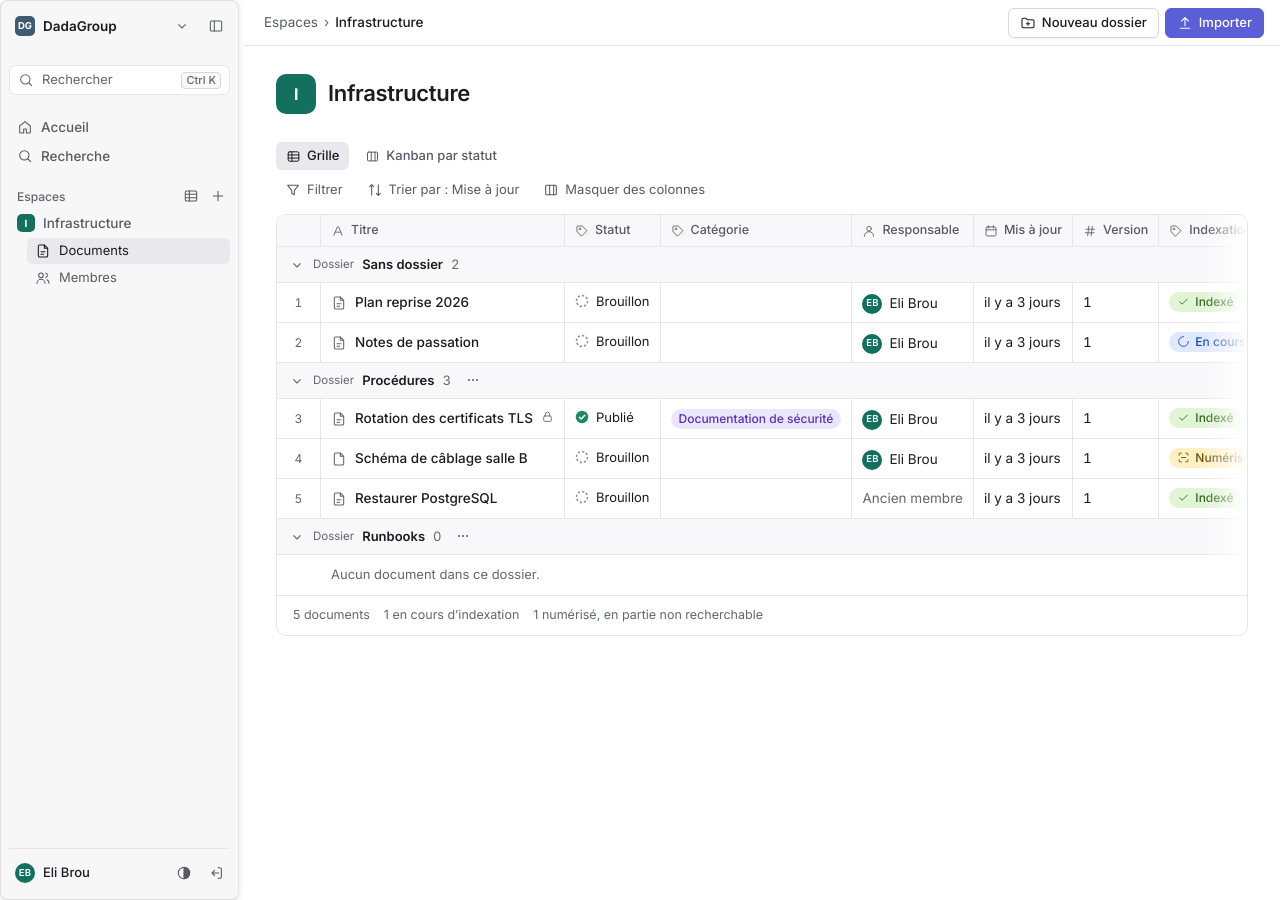
library › explains that a folder holding documents cannot be deleted
Expected: the table is shown, [277,215,1247,595]
Click the button named "Actions sur le dossier Procédures".
click(471, 380)  # box [459,368,483,392]
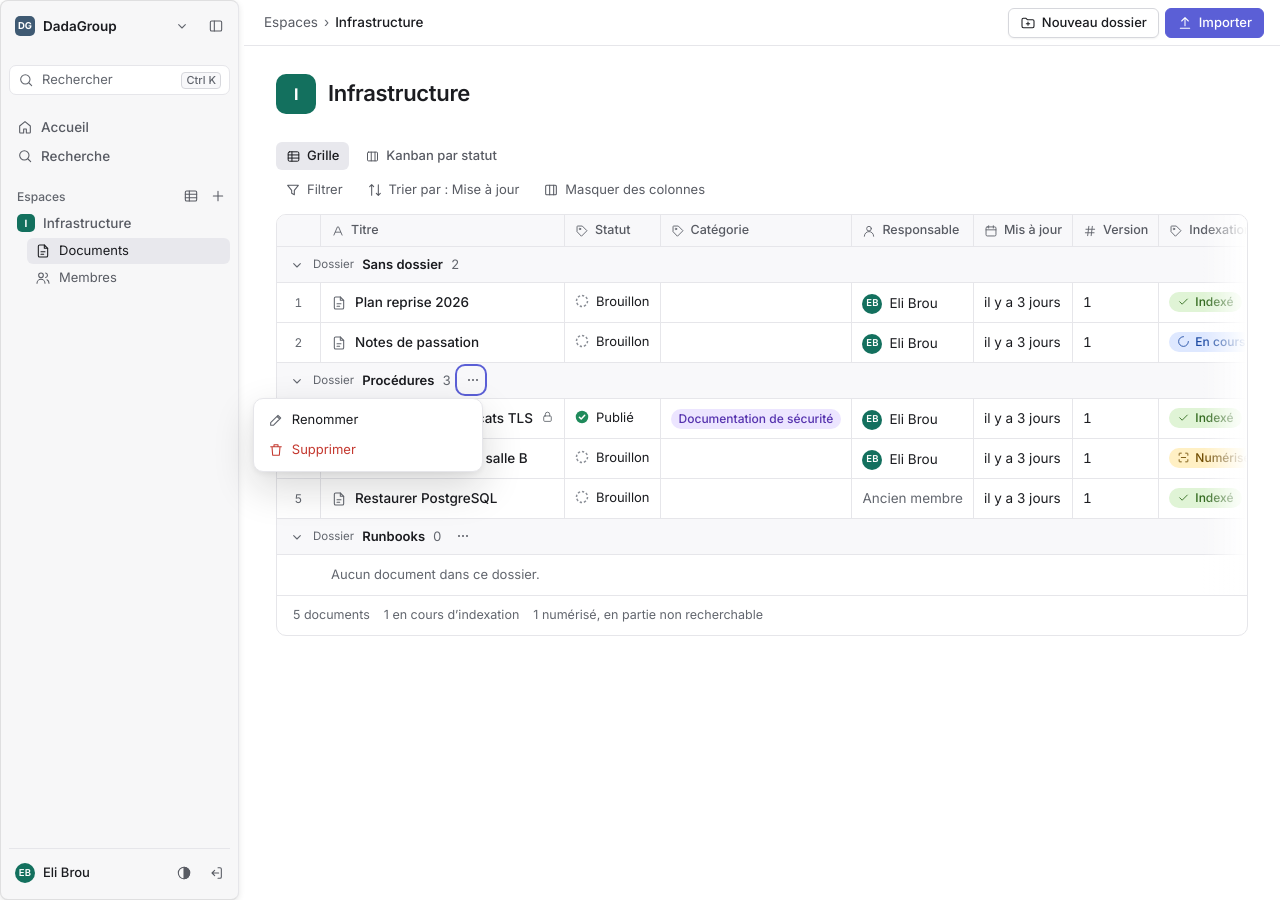
Click the menu item "Supprimer".
click(368, 450)  # box [260,435,476,465]
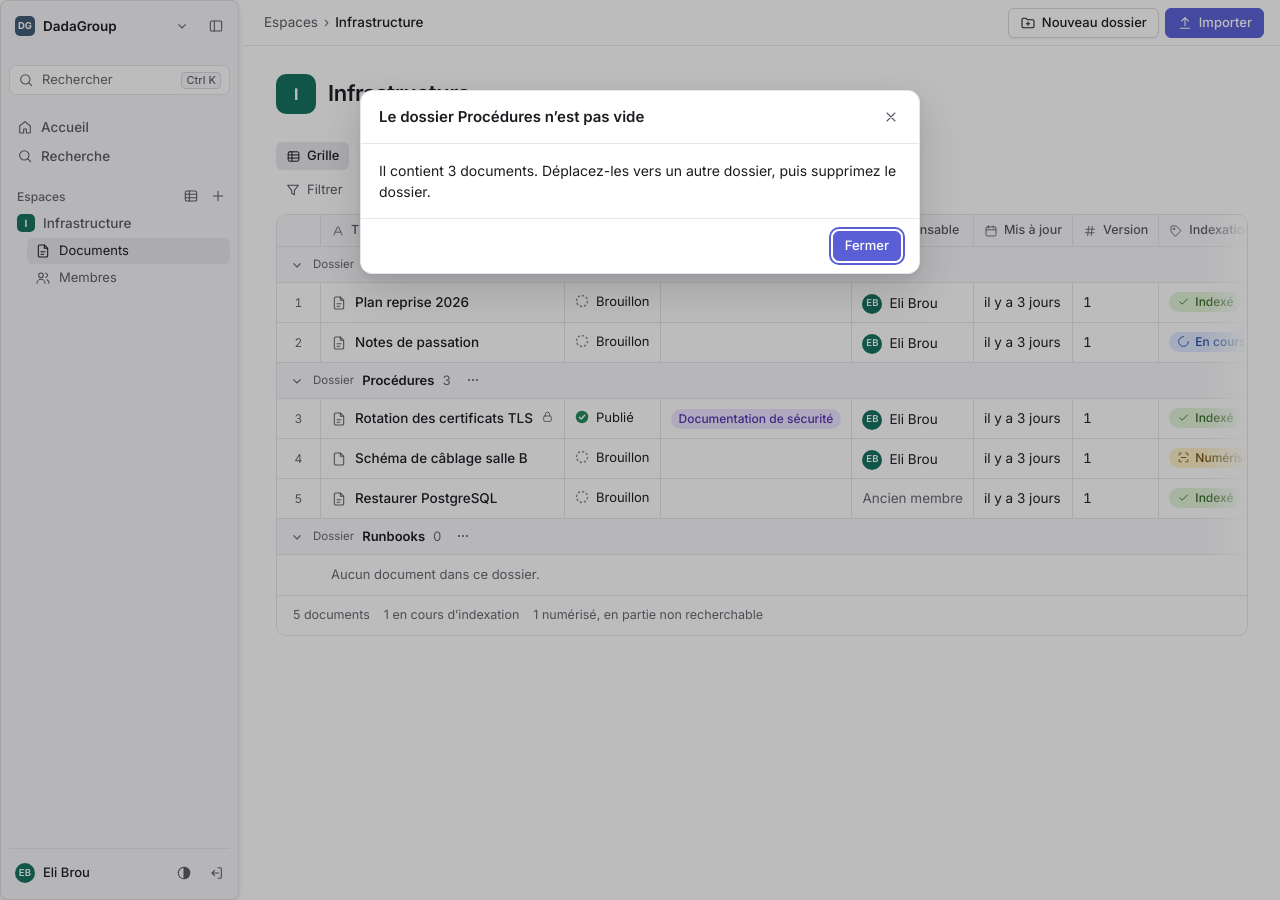
Expected: the dialog "Le dossier Procédures n’est pas vide" shows "Il contient 3 documents. Déplacez-les vers un autre dossier, puis supprimez le dossier.", [379,162,896,200]
Click the button "Fermer".
click(867, 246)  # box [833,231,901,261]
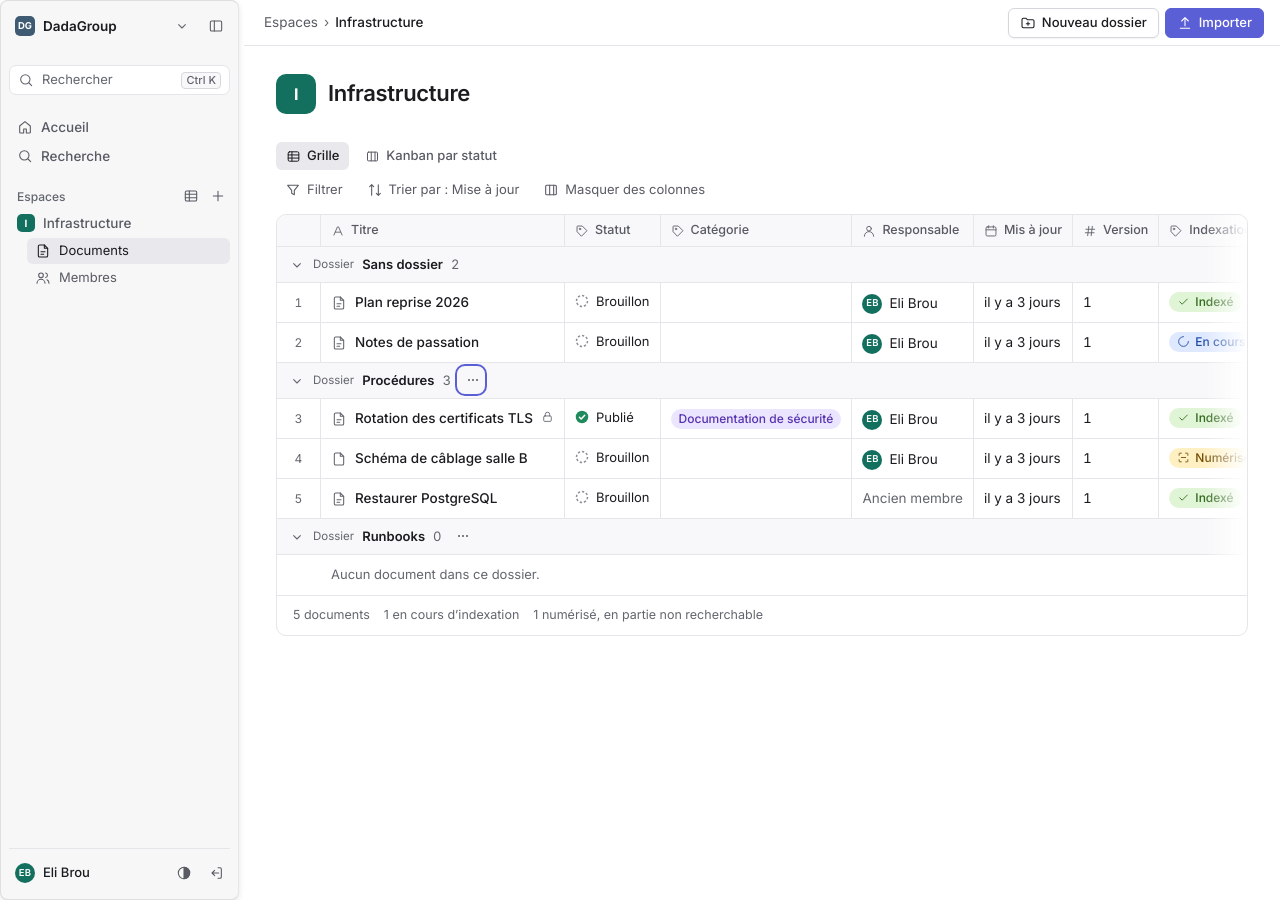
Expected: the dialog is gone
A folder that looks empty may hold documents the person does not see: the server says so.
Click the button named "Actions sur le dossier Runbooks".
click(462, 536)  # box [450,524,474,548]
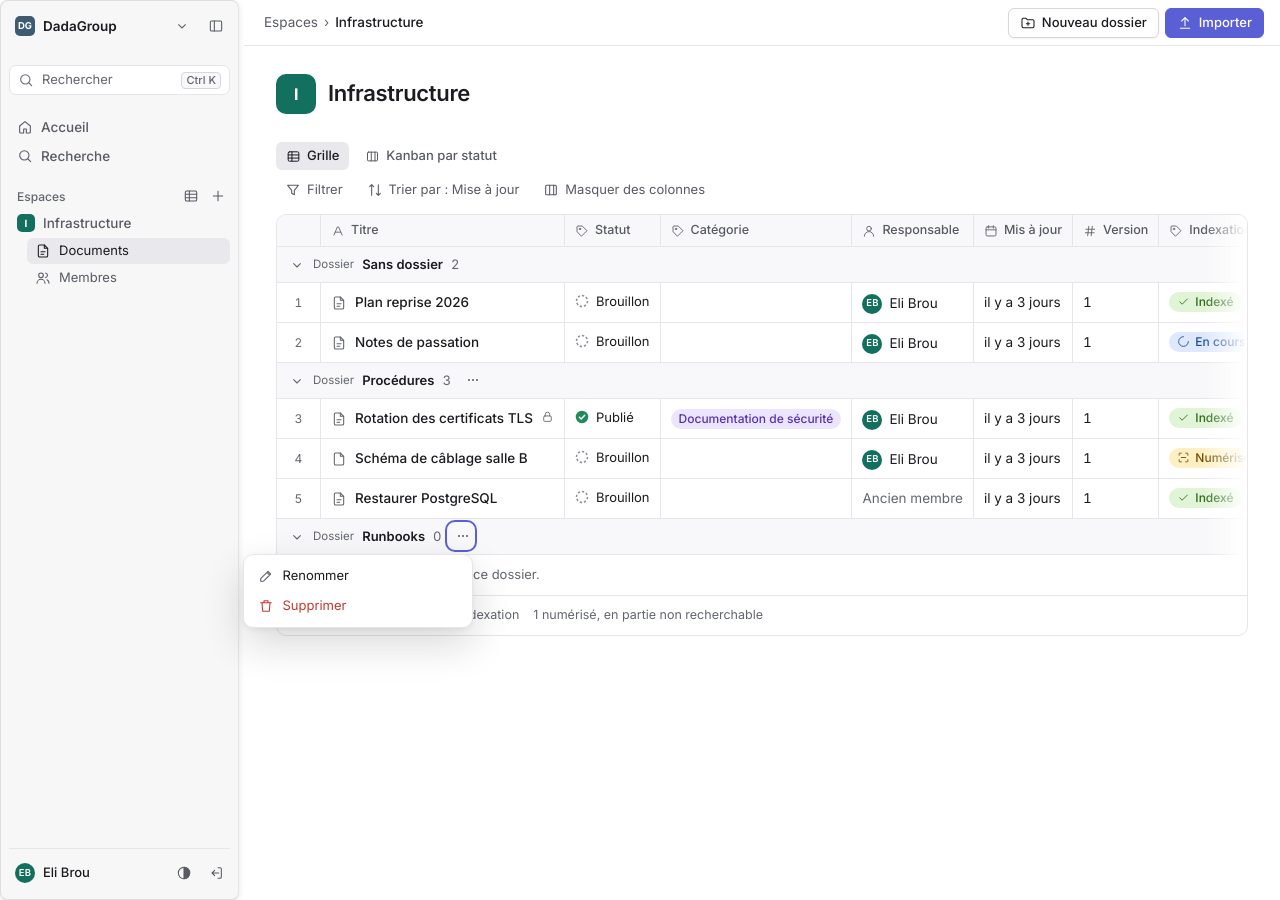
Click the menu item "Supprimer".
click(358, 606)  # box [250,591,466,621]
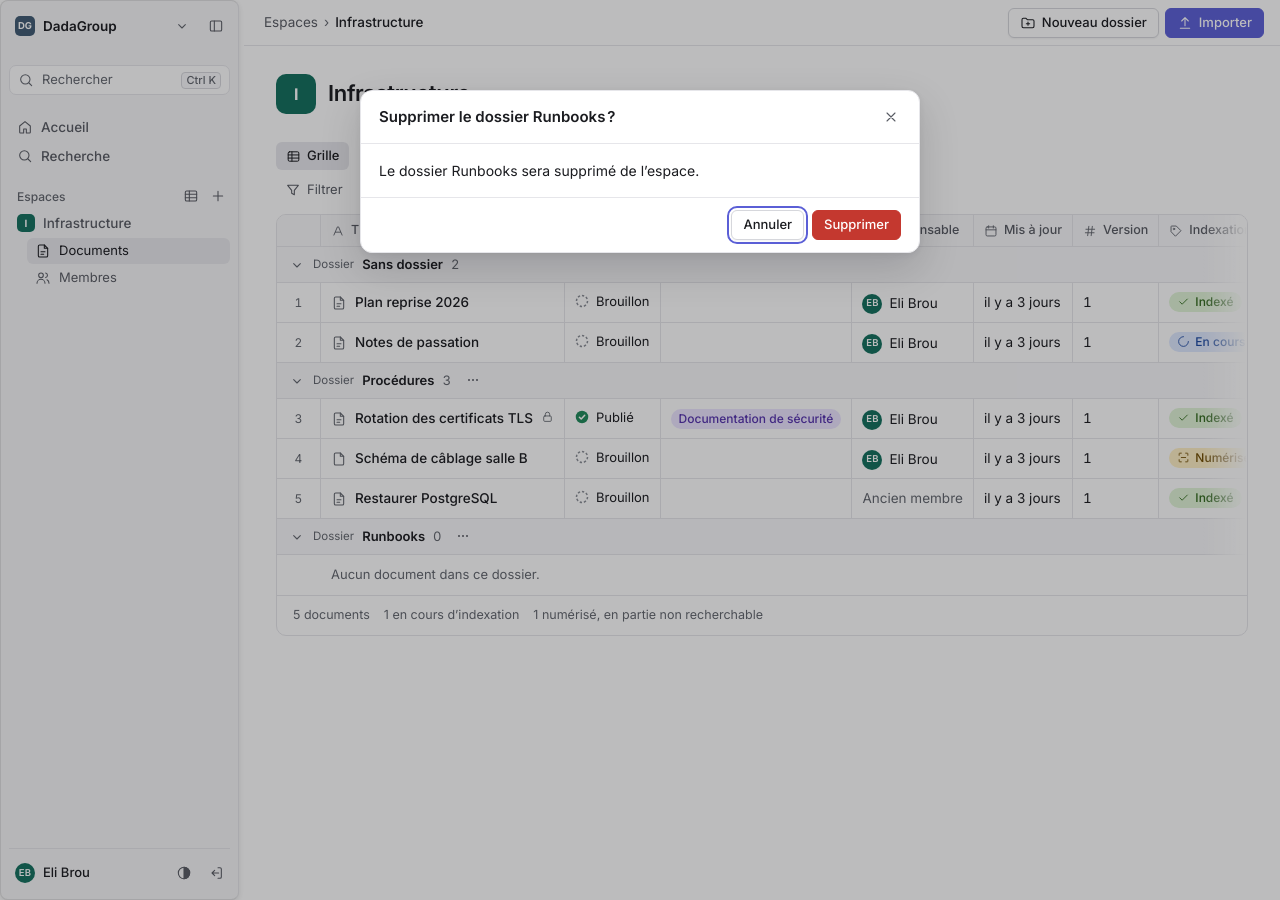
Click the button "Supprimer".
click(857, 225)  # box [812,210,901,240]
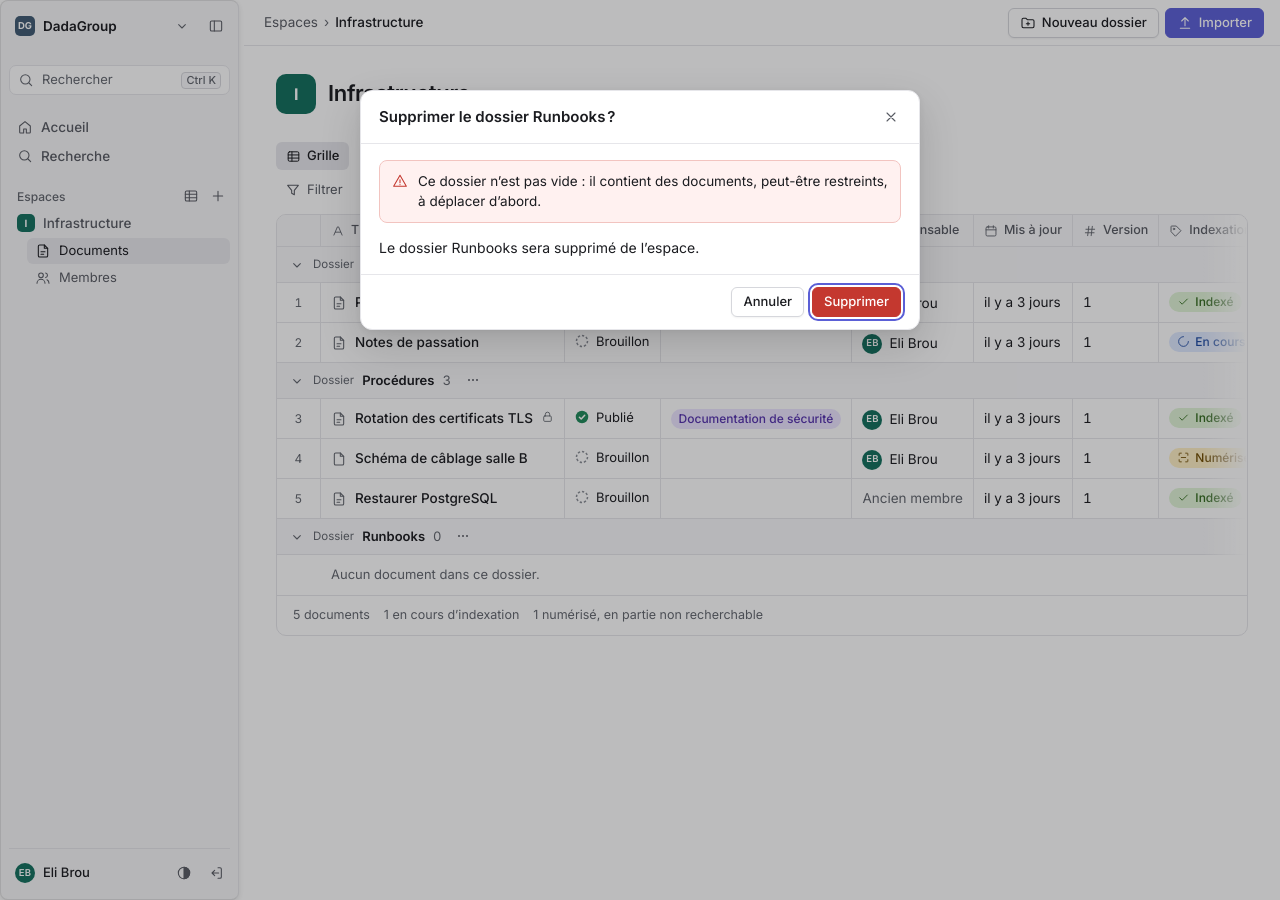
Expected: the message shows "Ce dossier n’est pas vide", [418,173,888,209]
